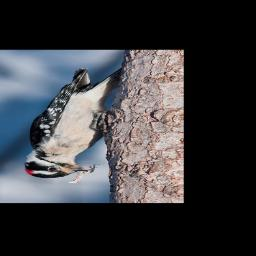Woodpecker: (24, 67, 119, 179)
